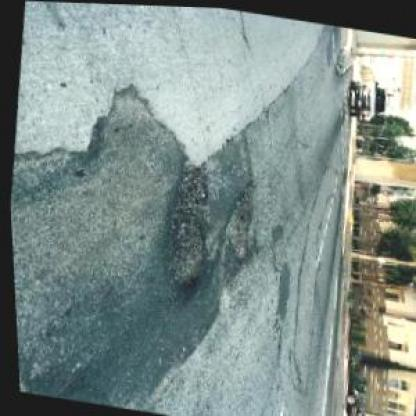pothole: (151, 155, 219, 293), (216, 171, 261, 262)
